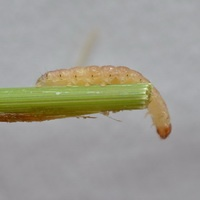insect: (0, 66, 170, 138)
